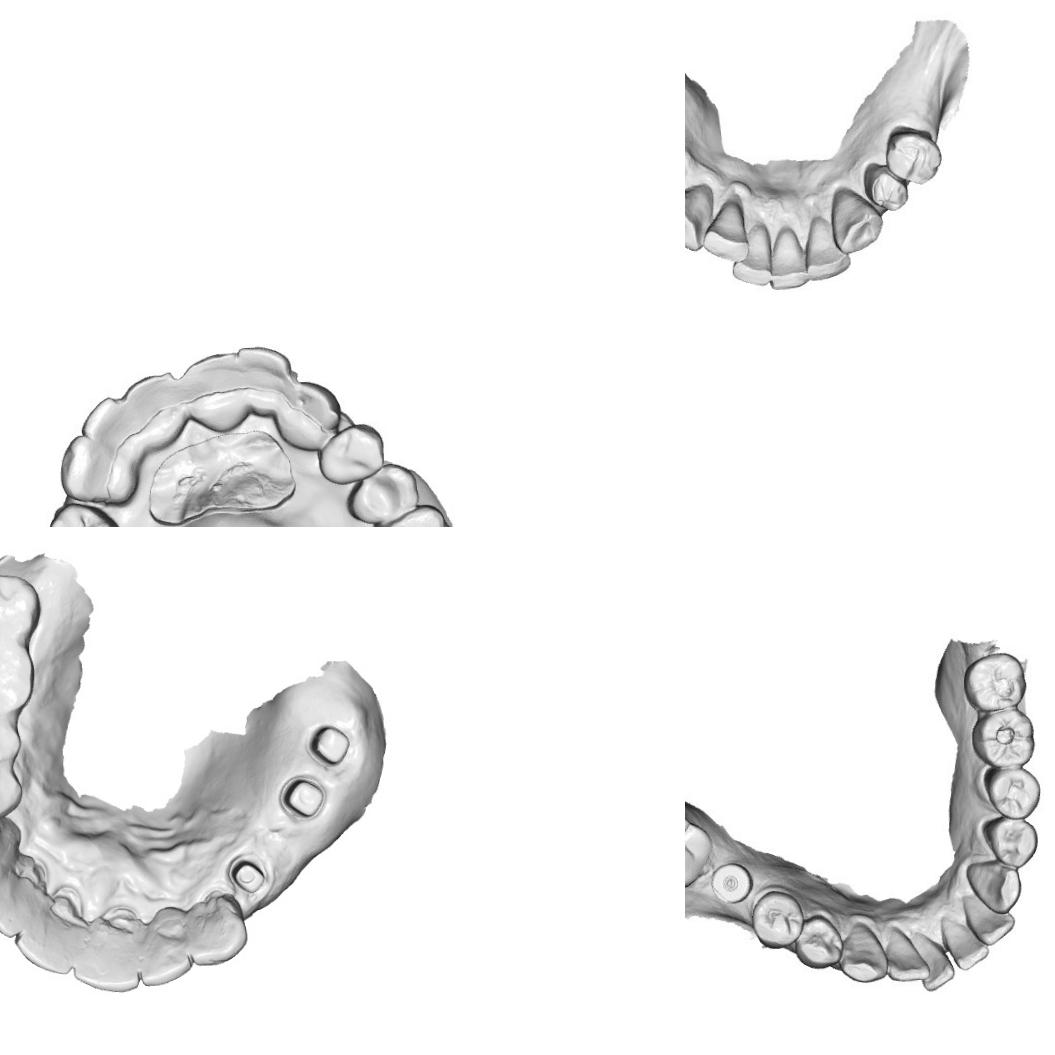abutment: (278, 773, 328, 824), (305, 720, 354, 769), (226, 854, 269, 900)
canine: (60, 432, 134, 514), (186, 903, 250, 968), (827, 188, 886, 256), (283, 379, 340, 444), (838, 918, 886, 986), (966, 860, 1021, 914), (685, 185, 718, 259), (0, 819, 23, 894)
implant: (704, 862, 757, 906)
incisor: (68, 930, 146, 996), (128, 370, 190, 442), (136, 918, 194, 989), (186, 352, 247, 418), (240, 344, 294, 418), (12, 916, 74, 977), (83, 398, 145, 458), (706, 199, 755, 273), (768, 225, 814, 294), (800, 216, 853, 274), (732, 219, 774, 290), (943, 917, 991, 974), (966, 899, 1018, 950), (0, 877, 41, 941), (910, 934, 956, 990), (882, 928, 926, 985)
molar: (962, 707, 1040, 768), (960, 646, 1030, 711), (0, 571, 43, 644), (0, 636, 37, 717), (685, 801, 712, 888), (370, 502, 459, 527)
premolar: (879, 124, 950, 188), (350, 460, 420, 524), (318, 420, 384, 486), (856, 158, 916, 216), (983, 770, 1045, 820), (982, 816, 1040, 869), (752, 890, 806, 946), (795, 914, 846, 970), (43, 497, 123, 527), (0, 759, 26, 830), (0, 707, 25, 769)
